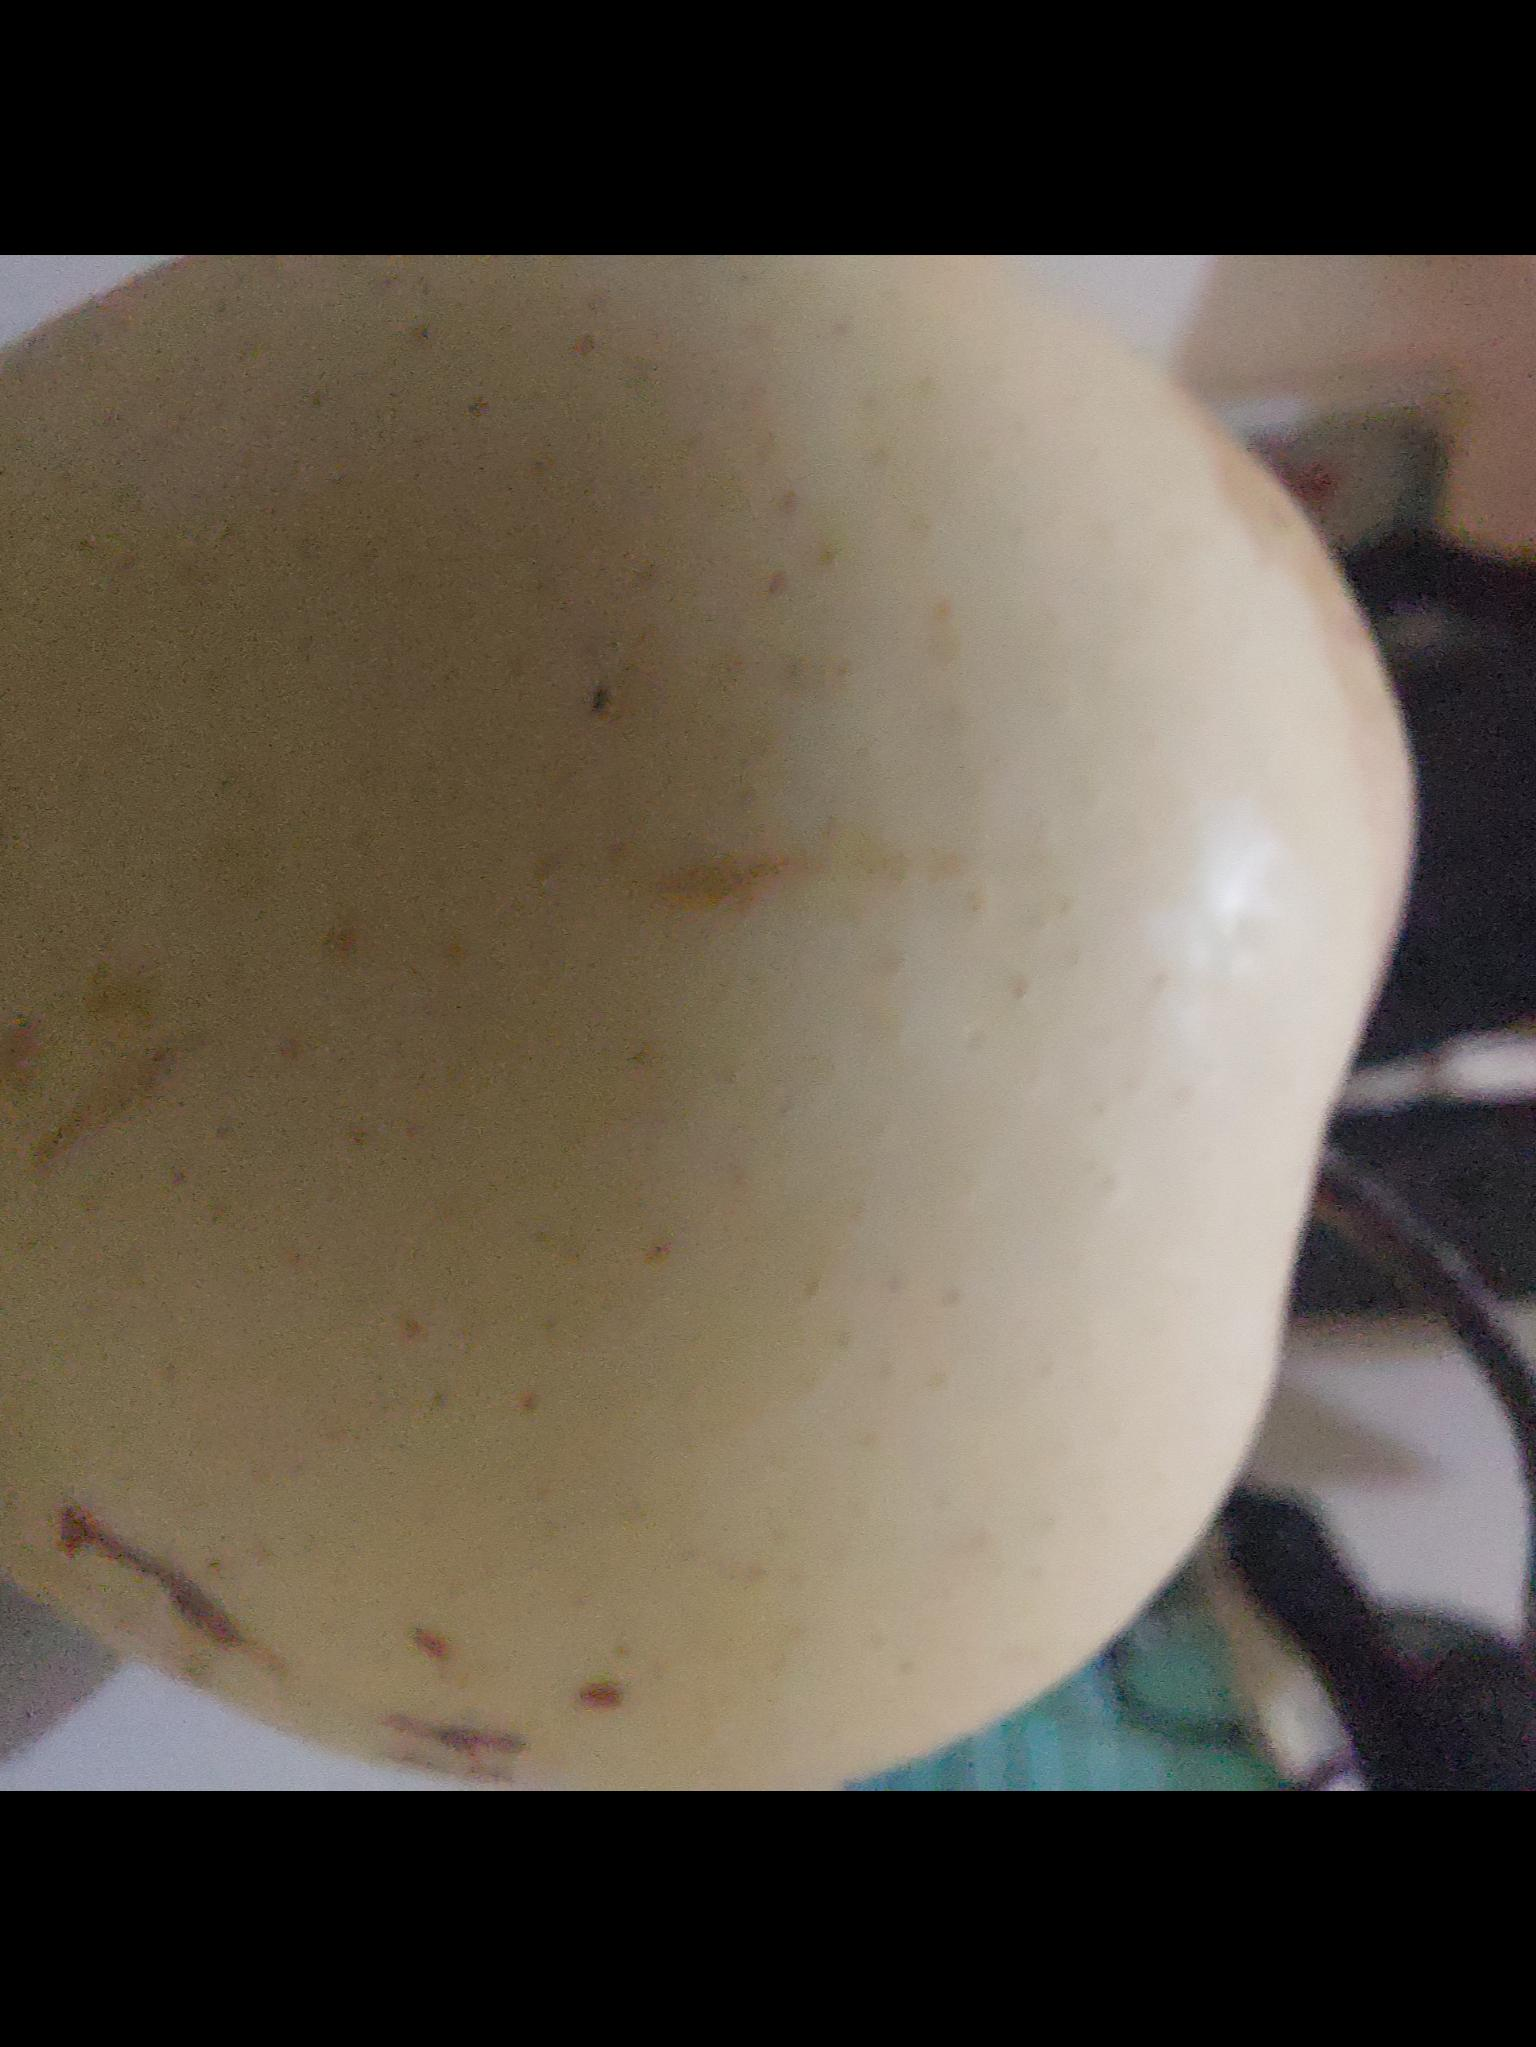Bad Pear: (0, 255, 1421, 1771)
